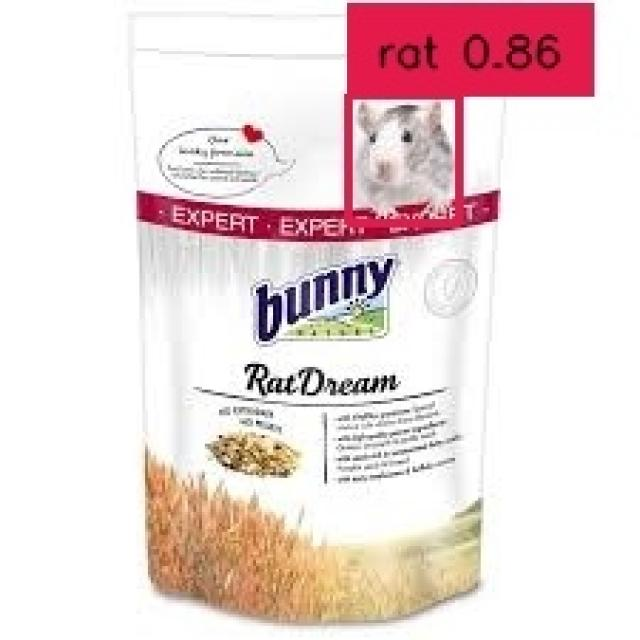rat: (344, 91, 455, 219)
